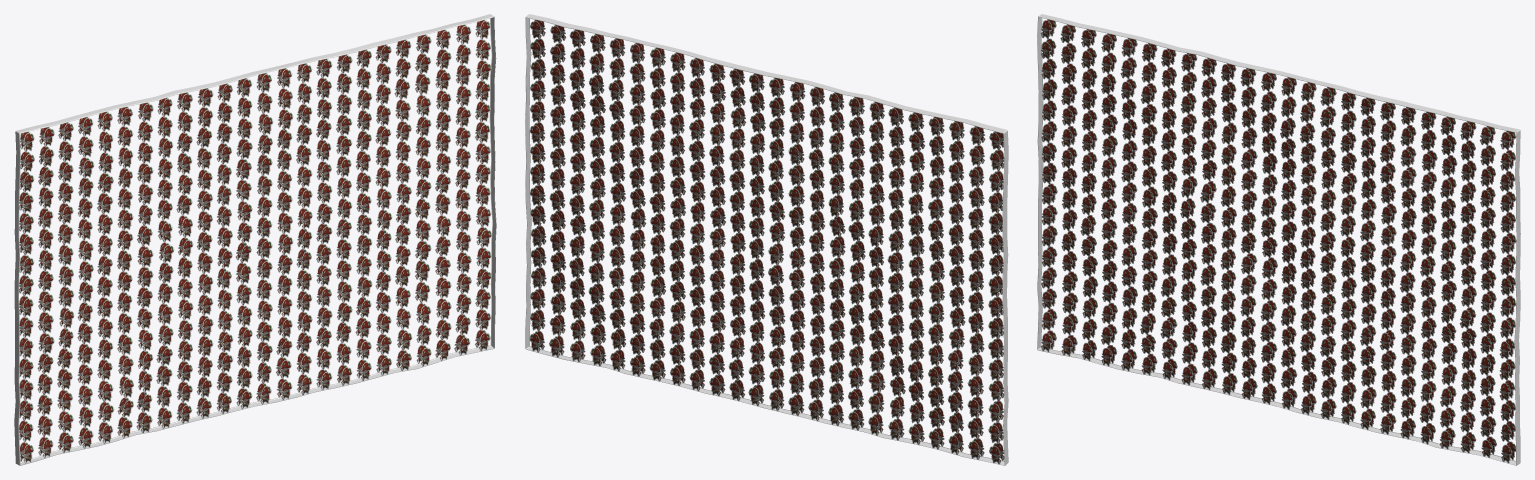
File: SM_Tile_Floor6x4.fbx
3 renders of one model, left to right at view 1: azimuth 30°, elevation 25°; view 2: azimuth 150°, elevation 25°; view 3: azimuth 330°, elevation 25°, orthographic.
Parts seen in each view (by area): view 1: SM_Tile_Floor6x4; view 2: SM_Tile_Floor6x4; view 3: SM_Tile_Floor6x4.
Boxes of the visible parts, left/top/right/bottom form: SM_Tile_Floor6x4: left=14, top=14, right=496, bottom=465; SM_Tile_Floor6x4: left=525, top=14, right=1008, bottom=465; SM_Tile_Floor6x4: left=1037, top=14, right=1520, bottom=465.
Bounding box in the file's own units: 1202 × 802 × 31.09.
